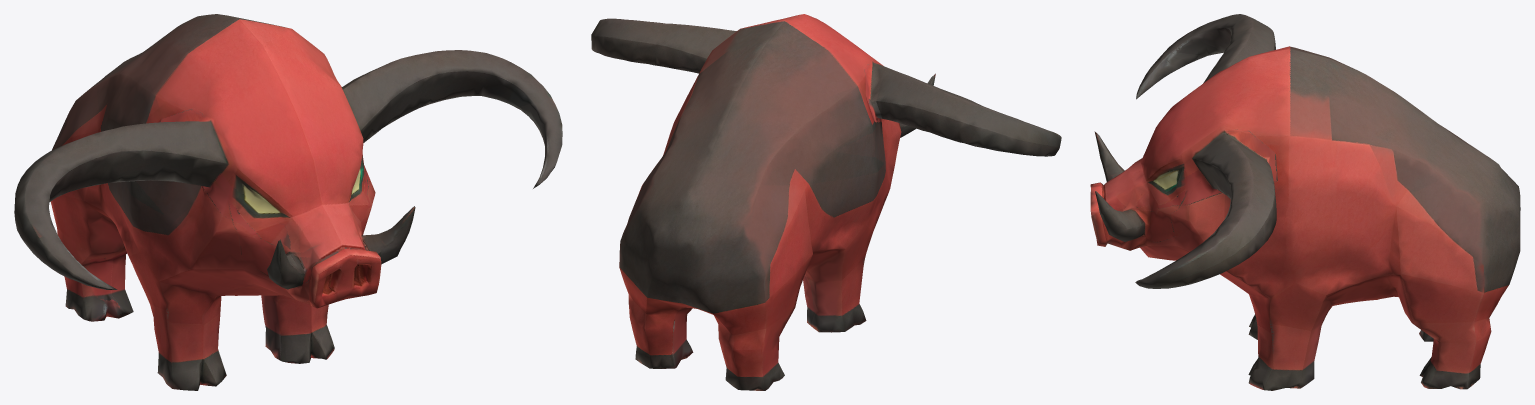
Rendered from Charger.fbx.
3 views of the same model, side by side, from view 1: azimuth 30°, elevation 25°; view 2: azimuth 150°, elevation 25°; view 3: azimuth 270°, elevation 25° (orthographic). The views are drawn at different scales.
Visible parts, largest first — view 1: texture_mapping; view 2: texture_mapping; view 3: texture_mapping.
Part boxes in pixels (x1,y1,x2,y2): texture_mapping: (14, 14, 562, 390); texture_mapping: (591, 14, 1061, 390); texture_mapping: (1090, 14, 1520, 390).
Bounding box in the file's own units: 1 × 0.7873 × 0.6211.
Materials: 1 (1 with a texture image).
